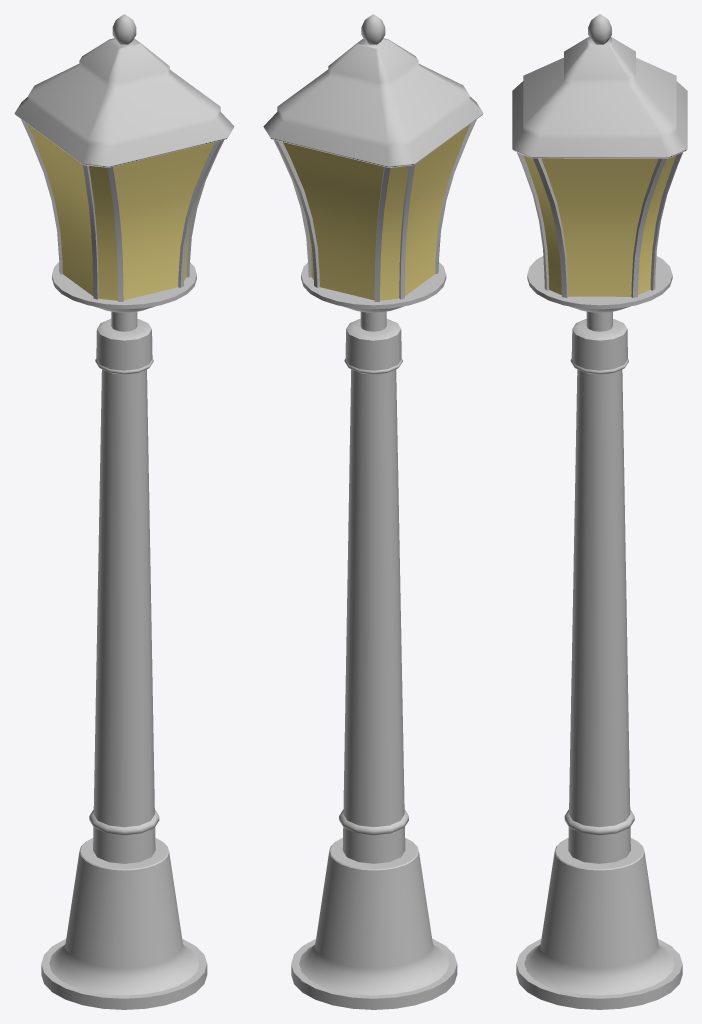
The model's file is glass_lamp.fbx.
3 renders of one model, left to right at view 1: azimuth 30°, elevation 25°; view 2: azimuth 150°, elevation 25°; view 3: azimuth 270°, elevation 25°, orthographic.
Parts seen in each view (by area): view 1: Lamp_8, Glass1_2; view 2: Lamp_8, Glass1_2; view 3: Lamp_8, Glass1_2.
Part boxes in pixels (x1,y1,x2,y2): Lamp_8: (14, 14, 234, 1009); Glass1_2: (27, 124, 214, 300); Lamp_8: (263, 14, 483, 1009); Glass1_2: (283, 124, 470, 300); Lamp_8: (512, 14, 687, 1009); Glass1_2: (523, 155, 676, 296).
Size of the model in its own units: 72.16 by 436 by 72.23.
